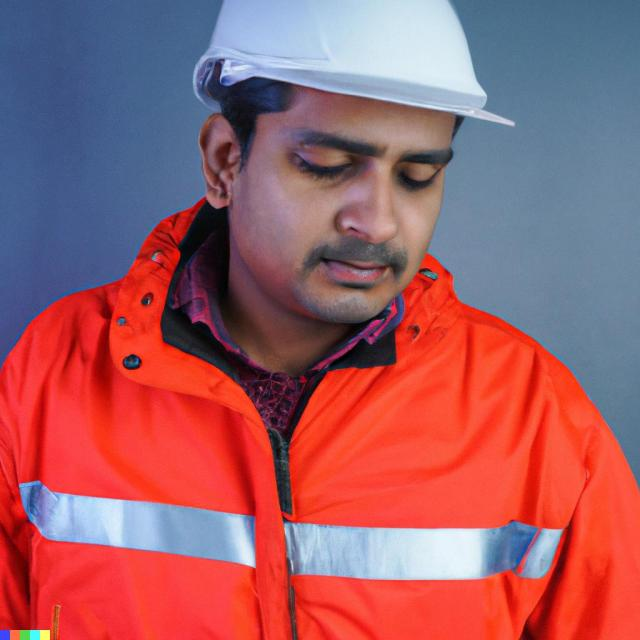Reflective-Jacket: (0, 242, 616, 638)
Safety-Helmet: (195, 1, 514, 125)
